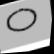no answer: (0, 3, 41, 37)
